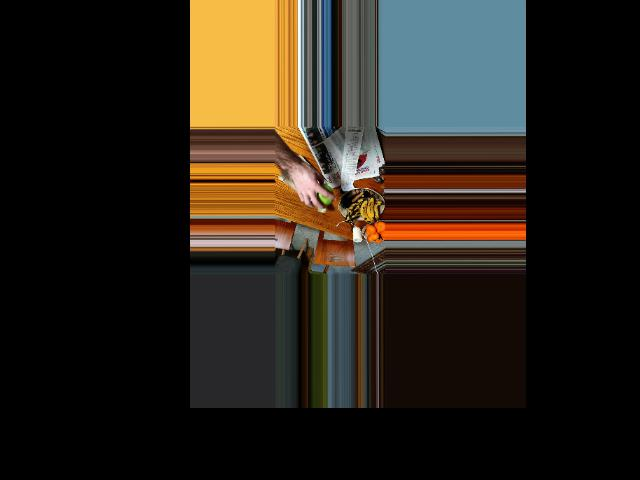apple: (310, 182, 333, 207)
